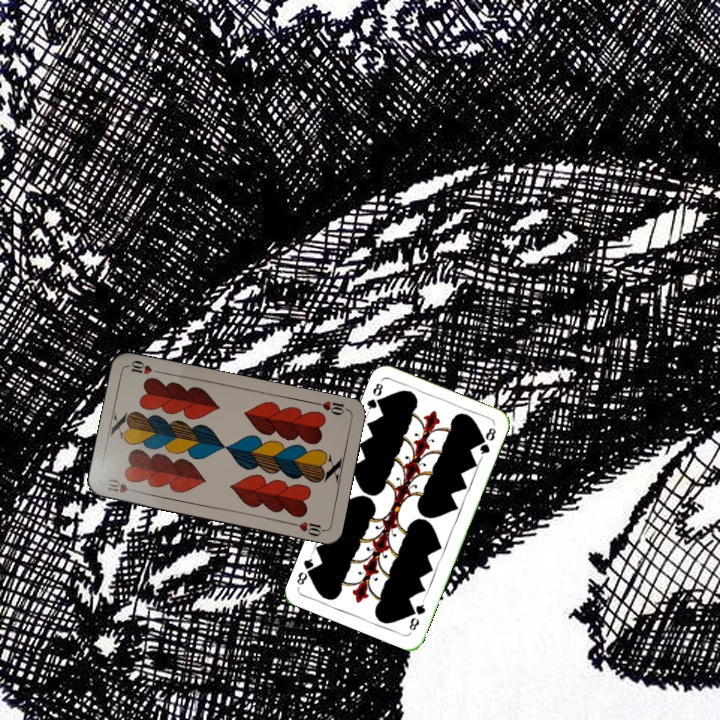G8: (363, 379, 387, 415), (405, 596, 428, 633)
H10: (311, 397, 351, 418), (103, 475, 142, 495)
